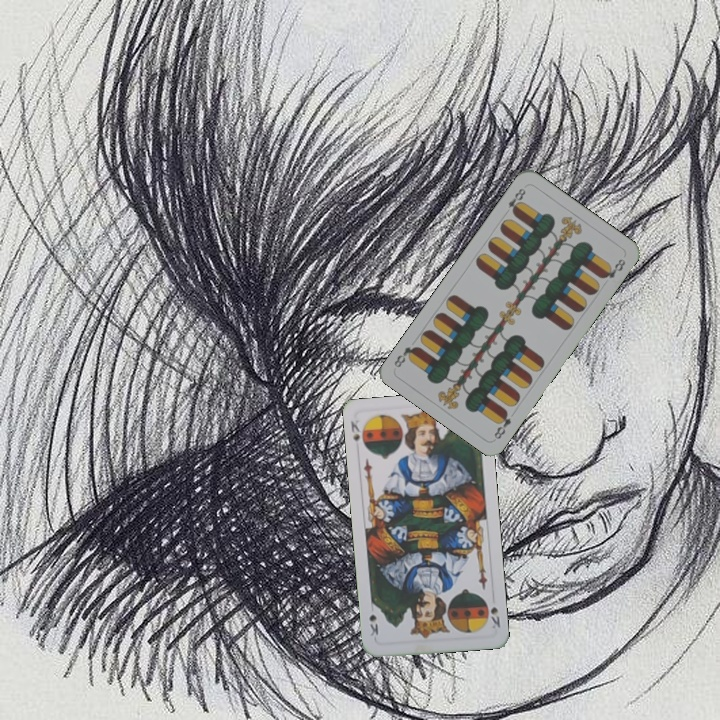E8: (490, 407, 514, 442), (504, 184, 528, 217)
SK: (346, 416, 368, 451), (487, 603, 503, 632)
